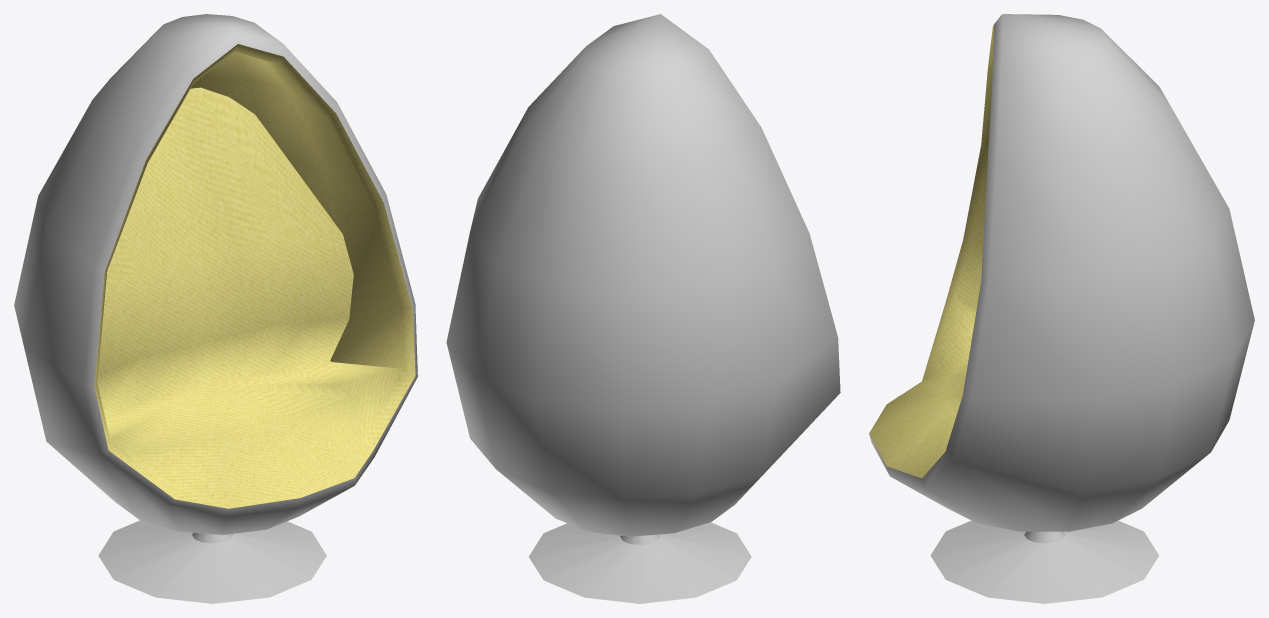
File: Eggchair_A_03.FBX
The picture shows the model from 3 angles, left to right: view 1: azimuth 30°, elevation 25°; view 2: azimuth 150°, elevation 25°; view 3: azimuth 270°, elevation 25°; orthographic projection. The views are drawn at different scales.
Visible parts, largest first — view 1: Egg_chair; view 2: Egg_chair; view 3: Egg_chair.
Part boxes in pixels (x1,y1,x2,y2): Egg_chair: [14, 14, 417, 603]; Egg_chair: [446, 14, 840, 603]; Egg_chair: [869, 14, 1254, 603].
Bounding box in the file's own units: 168 × 261 × 169.
